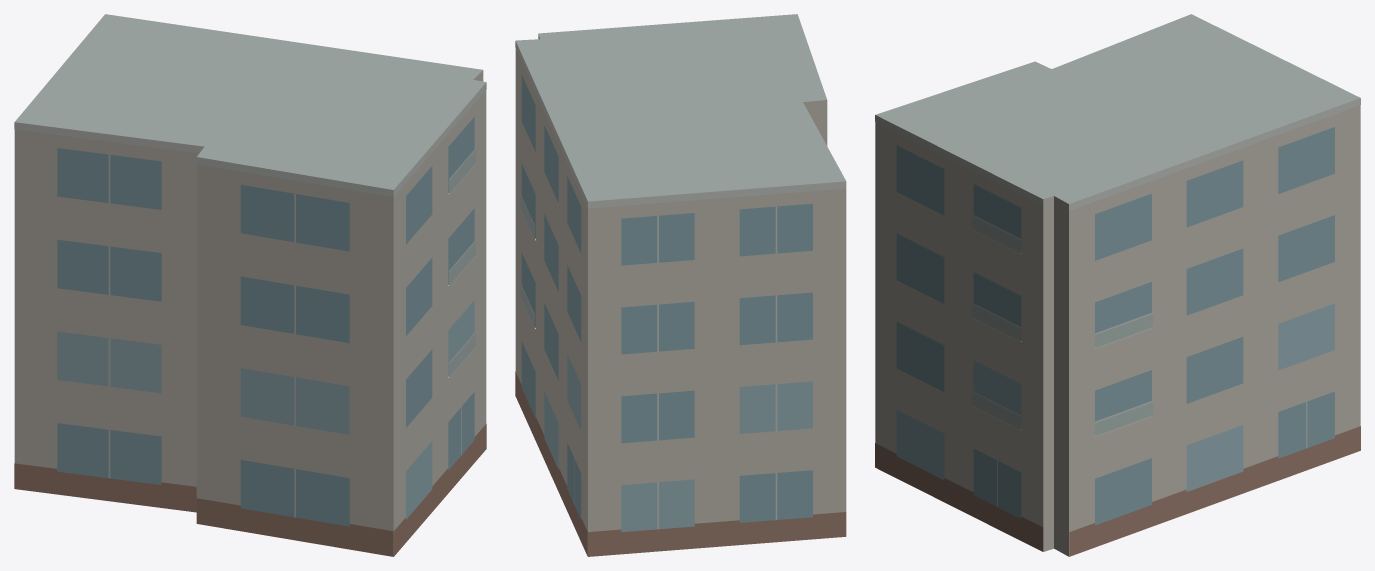
The model's file is survey-upis-32628837.glb.
3 views of the same model, side by side, from view 1: azimuth 30°, elevation 25°; view 2: azimuth 150°, elevation 25°; view 3: azimuth 270°, elevation 25° (orthographic). The views are drawn at different scales.
Parts seen in each view (by area): view 1: survey-upis-32628837.tmp; view 2: survey-upis-32628837.tmp; view 3: survey-upis-32628837.tmp.
Boxes of the visible parts, x1=… form: survey-upis-32628837.tmp: x1=14, y1=14, x2=486, y2=556; survey-upis-32628837.tmp: x1=515, y1=14, x2=846, y2=556; survey-upis-32628837.tmp: x1=875, y1=14, x2=1360, y2=556.
Size of the model in its own units: 14.23 by 12.3 by 15.35.
